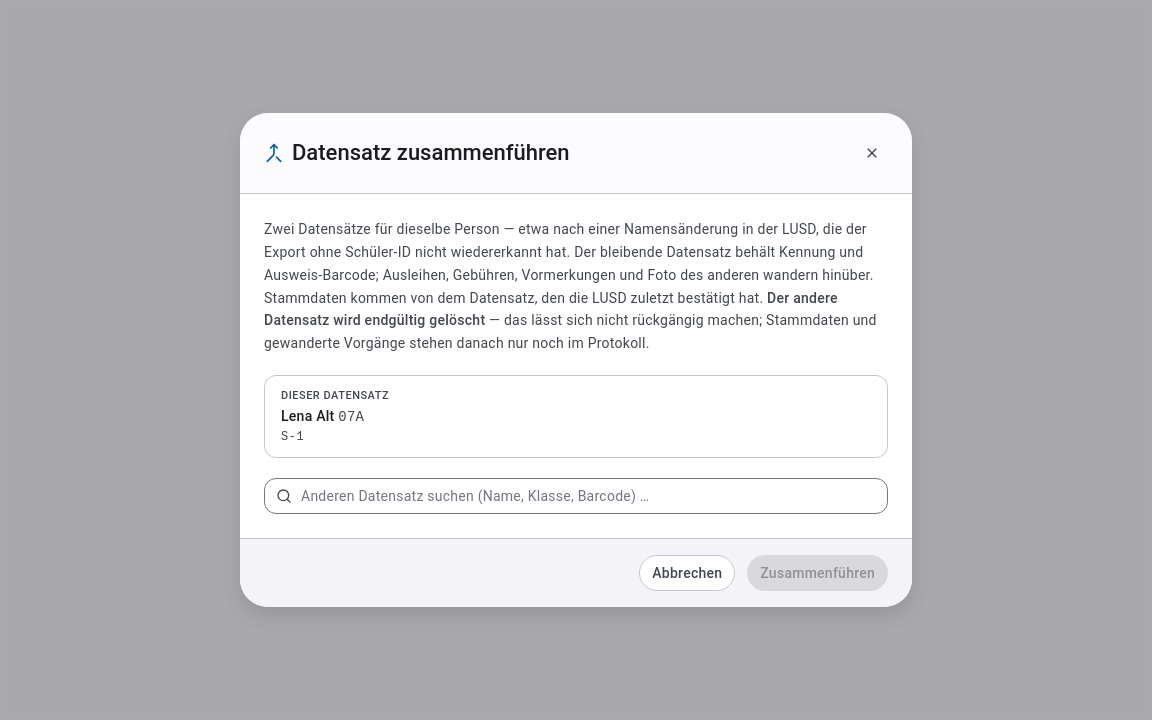
Test: SchuelerZusammenfuehrenDialog: Kandidatensuche › zeigt einen Serverfehler als Fehler — nicht als „Kein anderer Datensatz gefunden“
Type "Al" into the search field labelled "Anderen Datensatz suchen" at (576, 496), box 264,478 -> 888,514
Wait 250 ms
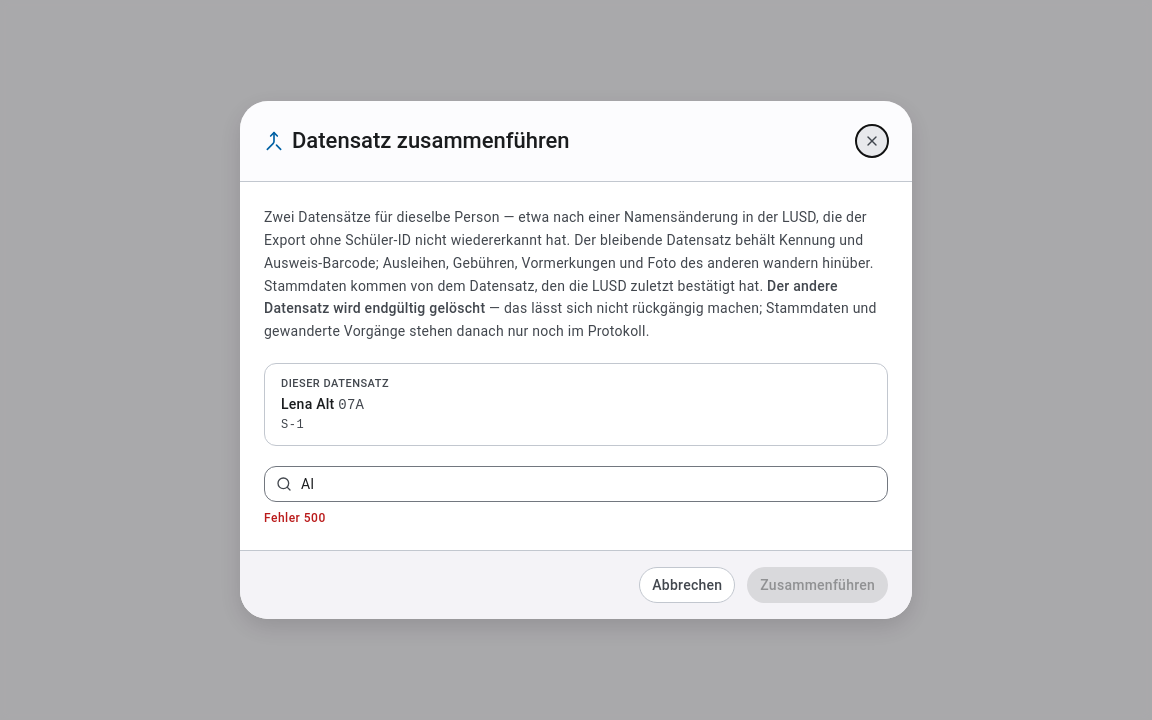
Check: the text "Fehler 500" is shown, box 264,511 -> 326,525
